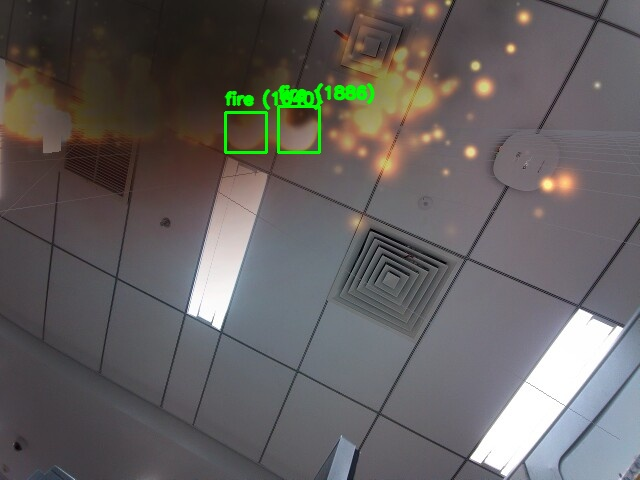fire: (278, 106, 319, 152), (225, 112, 266, 152)
